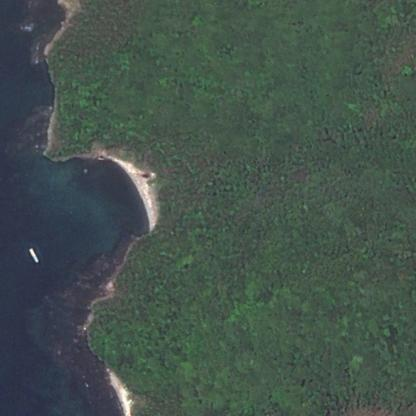ship: (21, 244, 45, 266)
